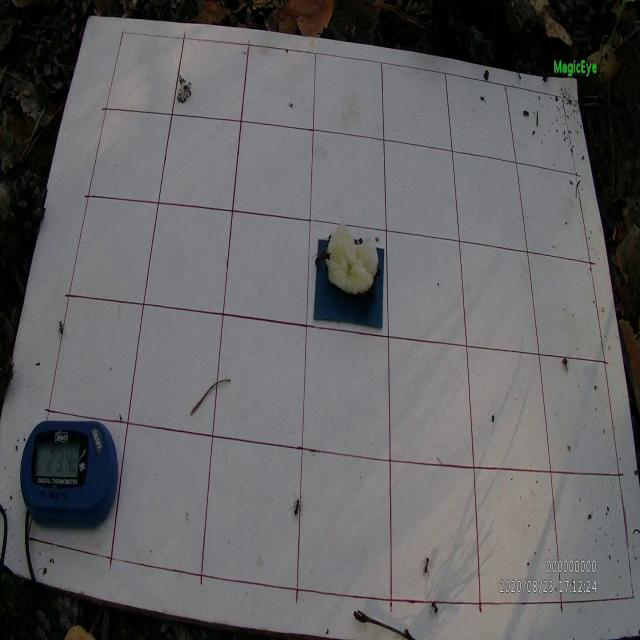Ant: (288, 492, 306, 517), (422, 554, 432, 577), (56, 319, 68, 337), (429, 598, 439, 618)
